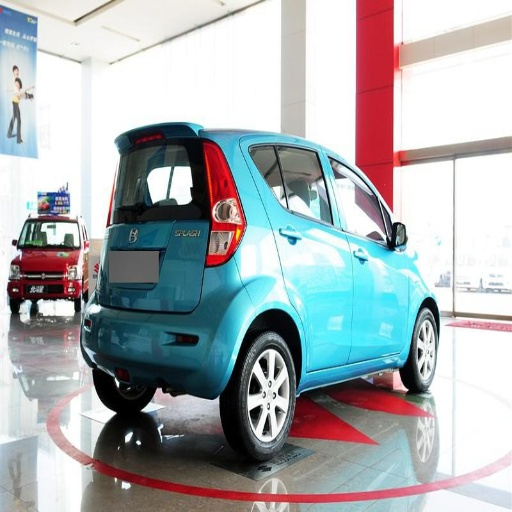back_bumper: (79, 257, 256, 396)
back_right_door: (256, 144, 353, 368)
trunk: (91, 205, 209, 311)
